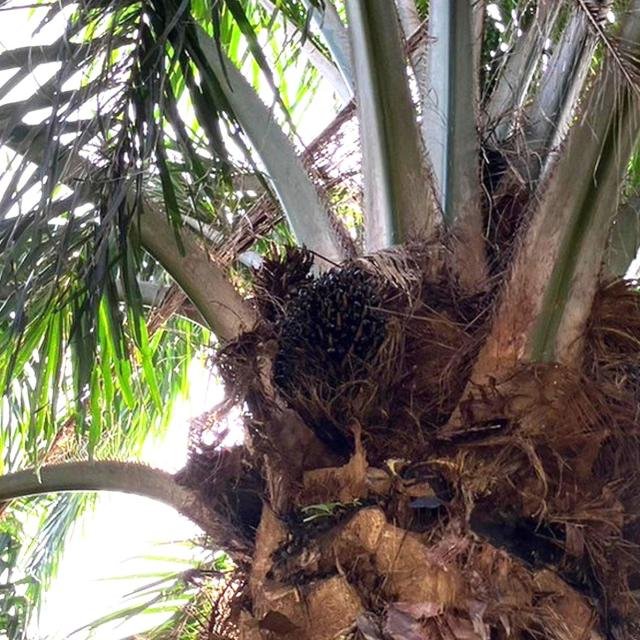unripe: (255, 255, 401, 402)
